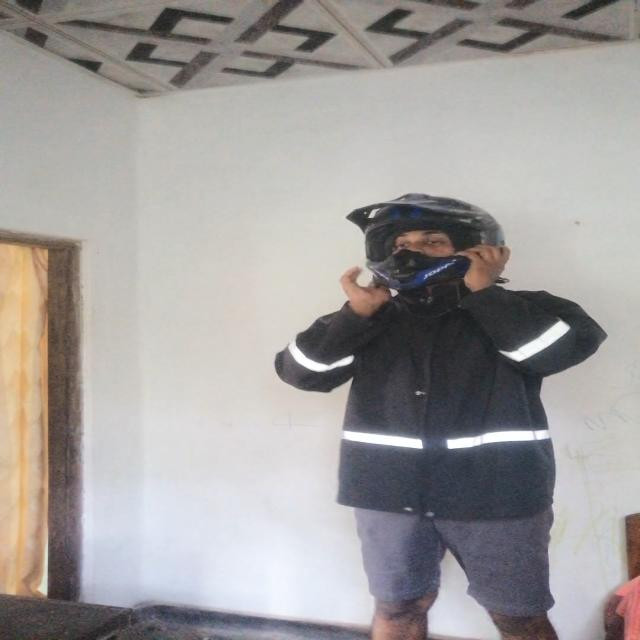Helmet_Wearer: (310, 192, 526, 302)
Jacket_Wearer: (290, 276, 606, 498)
